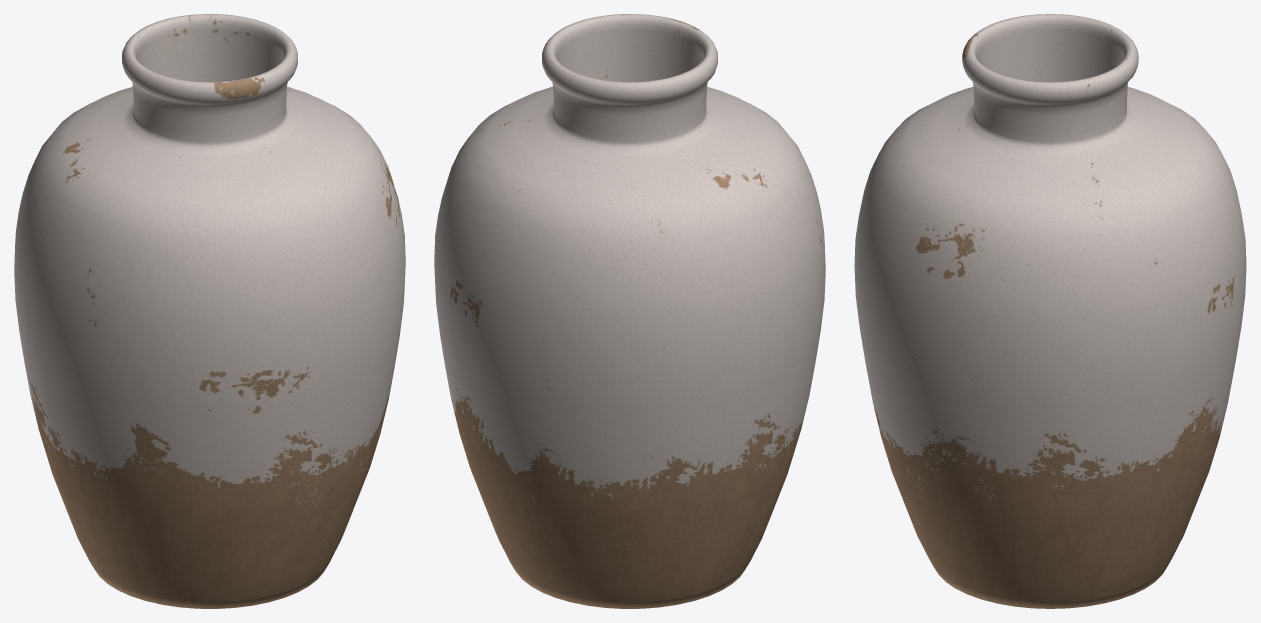
The model's file is abo_B07B8NZQ68.glb.
3 renders of one model, left to right at view 1: azimuth 30°, elevation 25°; view 2: azimuth 150°, elevation 25°; view 3: azimuth 270°, elevation 25°, orthographic.
Parts seen in each view (by area): view 1: RootNode; view 2: RootNode; view 3: RootNode.
Boxes of the visible parts, left/top/right/bottom form: RootNode: left=14, top=14, right=405, bottom=608; RootNode: left=434, top=14, right=825, bottom=608; RootNode: left=854, top=14, right=1246, bottom=608.
Size of the model in its own units: 0.1584 by 0.2282 by 0.1584.
Materials: 1 (1 with a texture image).
